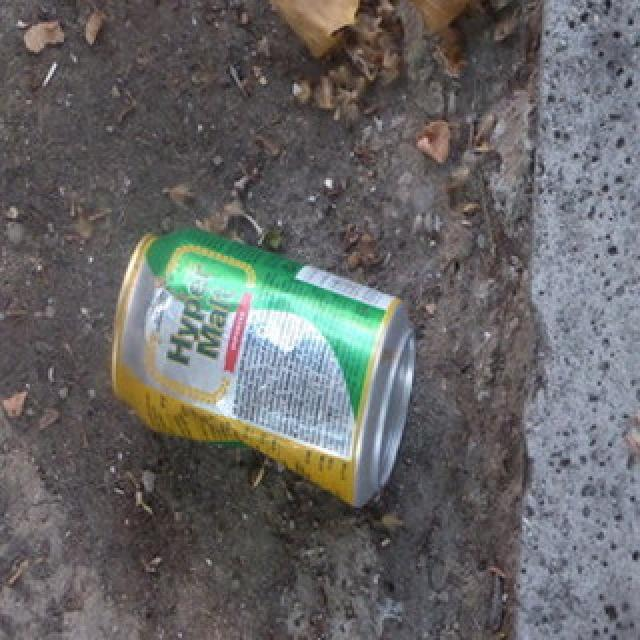can: (114, 228, 417, 510)
